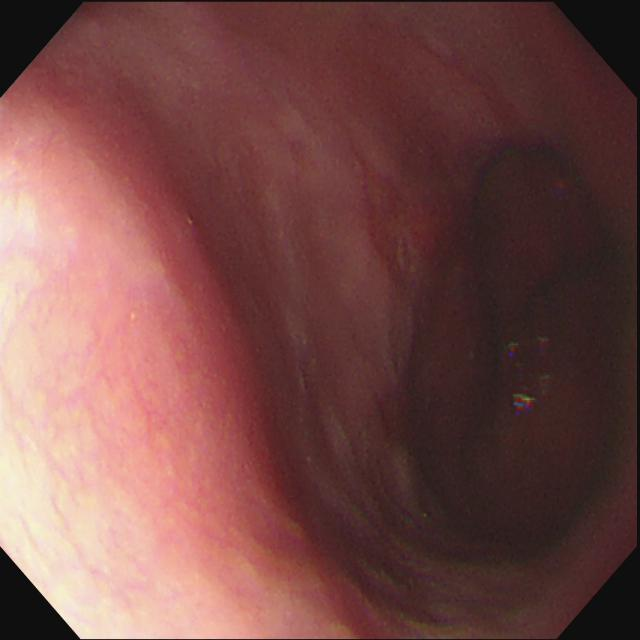U: (511, 394, 534, 415), (507, 340, 522, 363), (537, 336, 554, 355)
